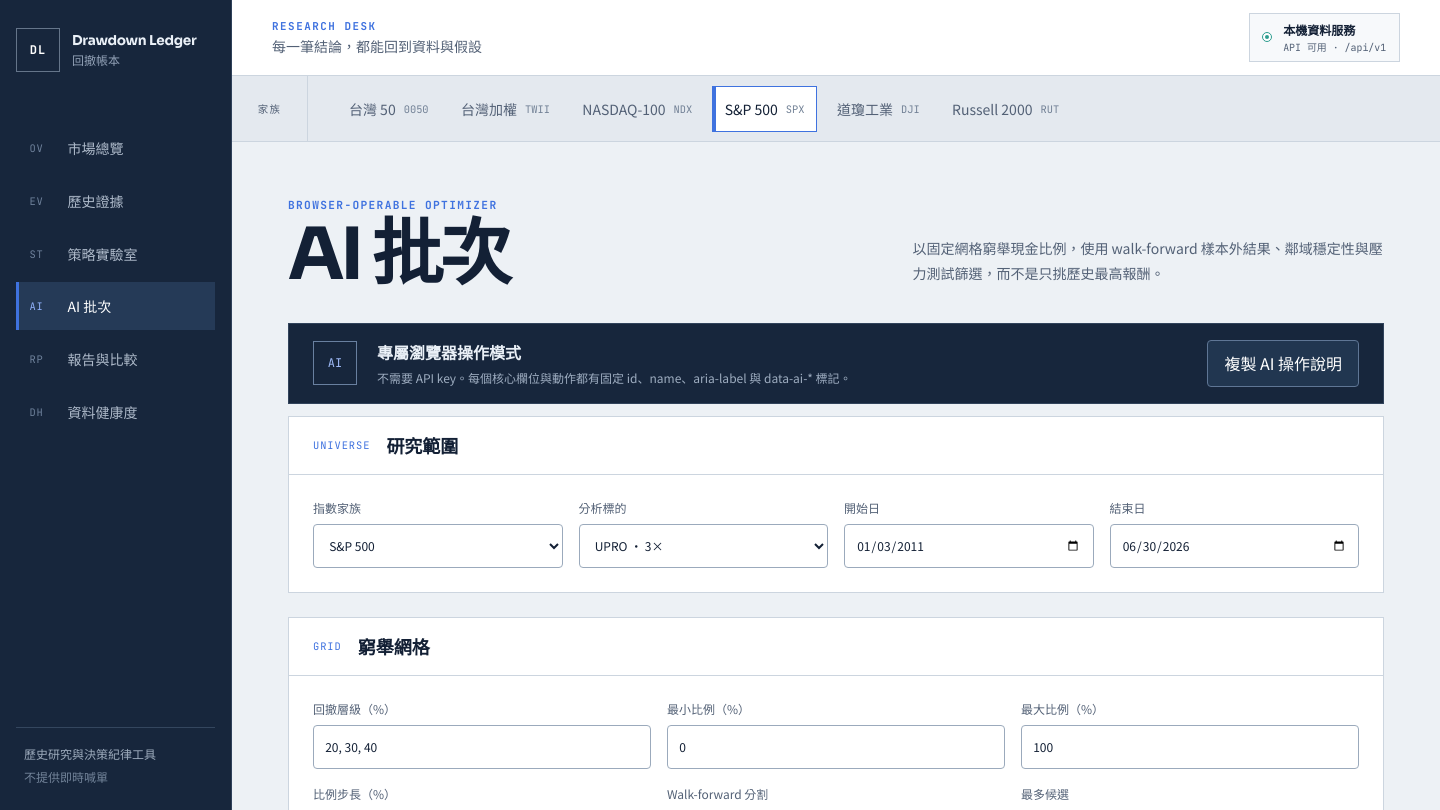
AI-operable optimization workbench › initializes from the family query and follows family-rail navigation
This screenshot has width=1440, height=810.
Expected: the dropdown named "AI 指數家族" shows "S&P 500", [313, 524, 562, 568]
Expected: the dropdown named "AI 分析標的" shows "UPRO · 3×", [578, 524, 828, 568]
Step 1. Click the link "NASDAQ-100 NDX" → (637, 108), box [582, 98, 692, 118]
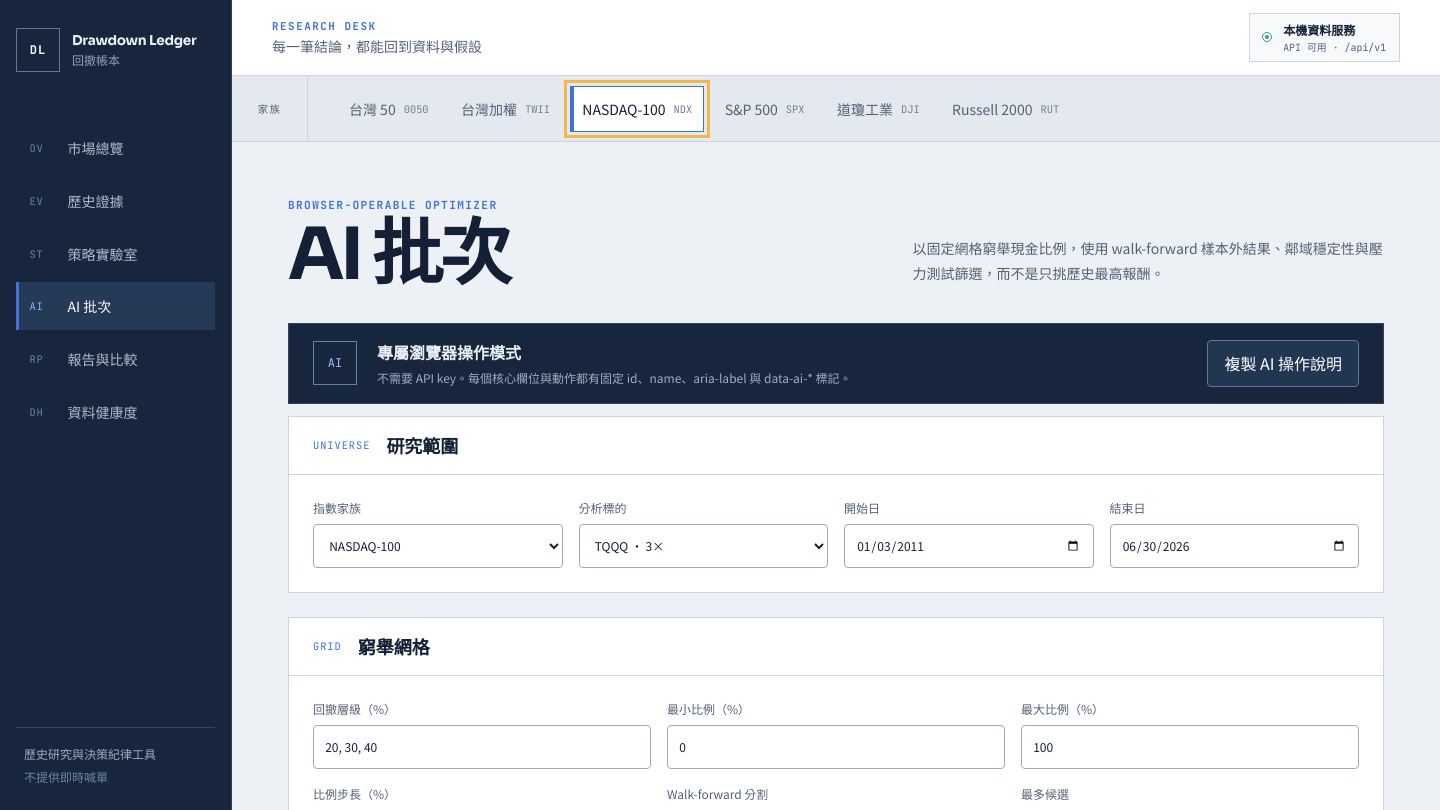
Expected: the dropdown named "AI 指數家族" shows "NASDAQ-100", [313, 524, 562, 568]
Expected: the dropdown named "AI 分析標的" shows "TQQQ · 3×", [578, 524, 828, 568]
